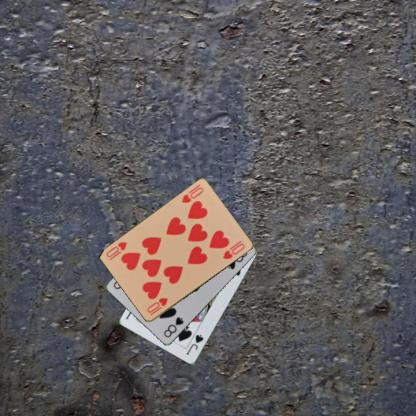10h: (144, 295, 169, 317), (179, 185, 205, 204)
8s: (161, 314, 185, 339)
Js: (183, 332, 205, 357)
